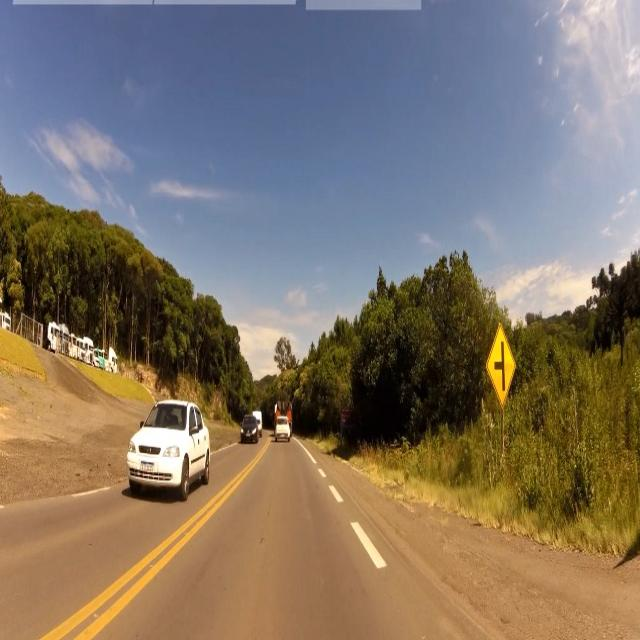A-7a: (486, 322, 516, 412)
